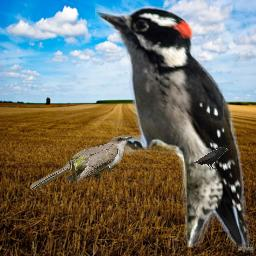Crow: (194, 147, 229, 170)
Cuckoo: (29, 135, 132, 190)
Woodpecker: (95, 6, 250, 247)
